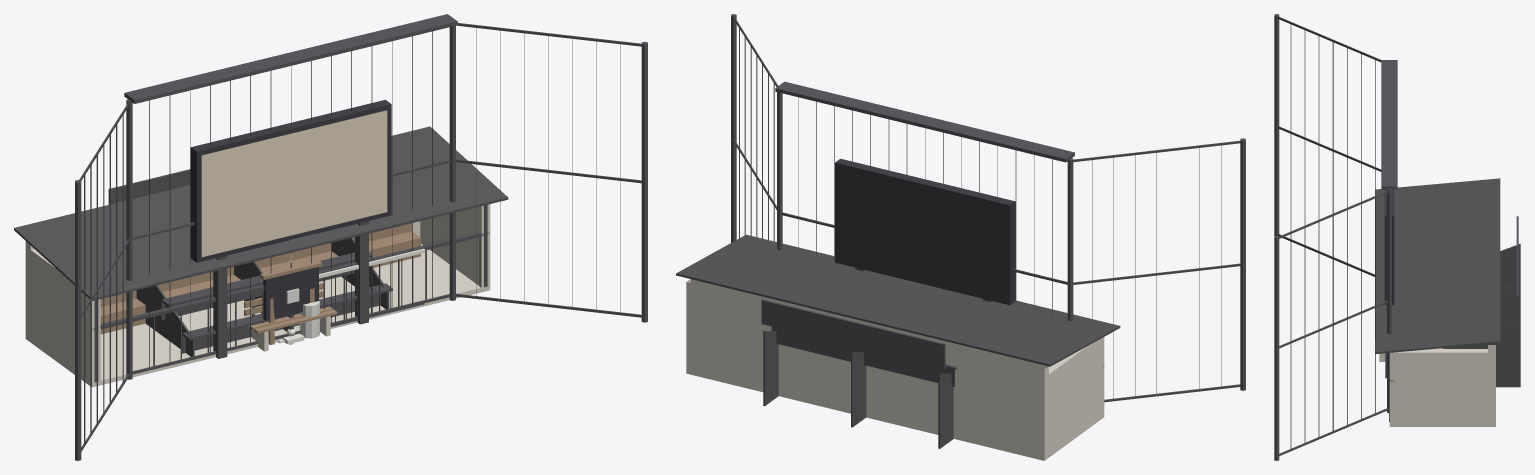
File: fields-kit.glb
The picture shows the model from 3 angles, left to right: view 1: azimuth 30°, elevation 25°; view 2: azimuth 150°, elevation 25°; view 3: azimuth 270°, elevation 25°; orthographic projection. The views are drawn at different scales.
Visible parts, largest first — view 1: dugout, scoreboard, backstop, bleacher, hole-sign, golf-bench, fence-panel, ball-washer; view 2: dugout, scoreboard, backstop, bleacher; view 3: dugout, backstop, bleacher, scoreboard.
Boxes of the visible parts, x1,y1,x2,y2 form: dugout: (14, 126, 508, 387); scoreboard: (190, 99, 391, 358); backstop: (75, 14, 647, 460); bleacher: (108, 169, 392, 356); hole-sign: (260, 260, 322, 344); golf-bench: (244, 282, 337, 351); fence-panel: (288, 248, 425, 334); ball-washer: (286, 288, 319, 338); dugout: (676, 234, 1120, 460); scoreboard: (835, 158, 1015, 305); backstop: (731, 14, 1245, 402); bleacher: (761, 299, 956, 448); dugout: (1375, 178, 1500, 426); backstop: (1274, 14, 1397, 460); bleacher: (1442, 216, 1520, 387); scoreboard: (1384, 189, 1394, 378).
Size of the model in its own units: 12.94 by 6.18 by 6.01.
